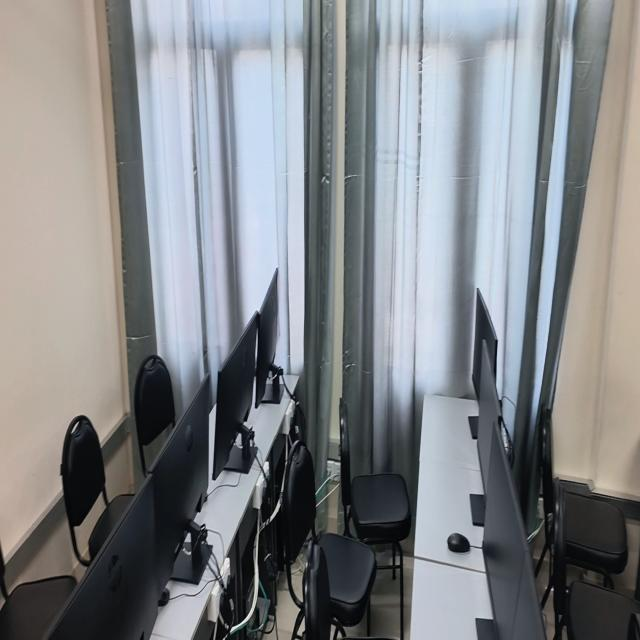Chair: (282, 440, 377, 627), (339, 401, 411, 639), (542, 409, 628, 587), (551, 481, 640, 639), (60, 415, 134, 566), (0, 543, 76, 639), (133, 355, 175, 474), (304, 540, 332, 639)
Monitor: (43, 474, 165, 639), (145, 380, 209, 599), (482, 424, 532, 638), (212, 311, 259, 479), (501, 548, 547, 639), (477, 340, 500, 504), (256, 269, 278, 407), (472, 288, 497, 404)
Mouse: (447, 533, 470, 552), (158, 587, 170, 606)
